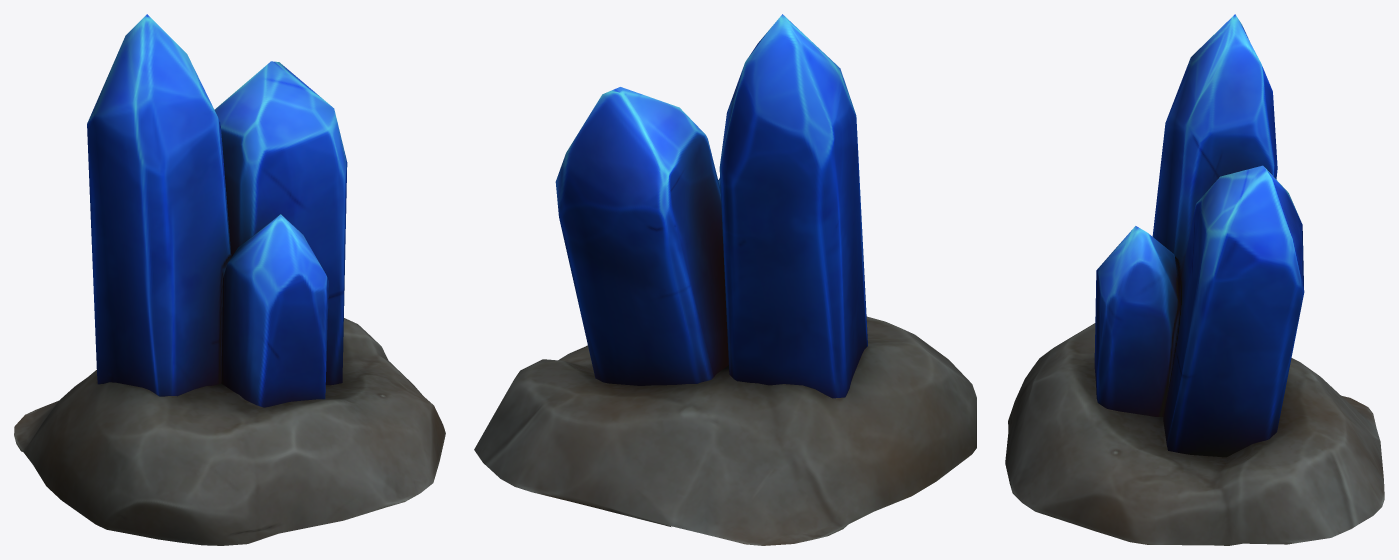
Rendered from SM_Gem_Sapphire_001.fbx.
The picture shows the model from 3 angles, left to right: view 1: azimuth 30°, elevation 25°; view 2: azimuth 150°, elevation 25°; view 3: azimuth 270°, elevation 25°; orthographic projection. The views are drawn at different scales.
Parts seen in each view (by area): view 1: SM_Gem_Sapphire_001; view 2: SM_Gem_Sapphire_001; view 3: SM_Gem_Sapphire_001.
Boxes of the visible parts, <box> form: SM_Gem_Sapphire_001: <box>14,14,445,545</box>; SM_Gem_Sapphire_001: <box>474,14,976,545</box>; SM_Gem_Sapphire_001: <box>1005,14,1384,545</box>.
Size of the model in its own units: 48.68 by 55.57 by 45.69.
